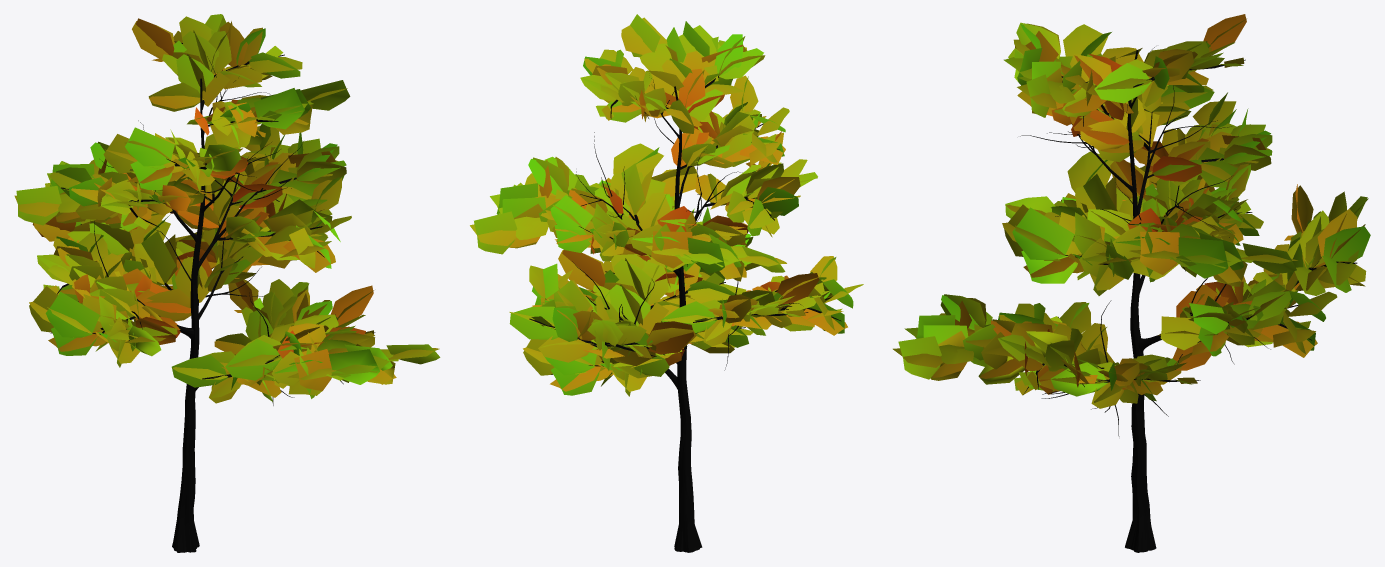
File: Tree_tall_1.glb
3 renders of one model, left to right at view 1: azimuth 30°, elevation 25°; view 2: azimuth 150°, elevation 25°; view 3: azimuth 270°, elevation 25°, orthographic. The views are drawn at different scales.
Parts seen in each view (by area): view 1: Tree tall 1; view 2: Tree tall 1; view 3: Tree tall 1.
Boxes of the visible parts, x1=… form: Tree tall 1: x1=14, y1=14, x2=440, y2=552; Tree tall 1: x1=470, y1=14, x2=863, y2=552; Tree tall 1: x1=893, y1=14, x2=1370, y2=552.
Size of what is drawn, in the model's own units: 51.64 by 74.98 by 61.05.
